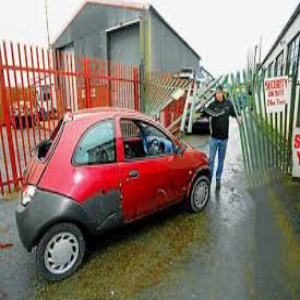bonnet: (120, 81, 229, 134)
bumper: (164, 163, 290, 247)
